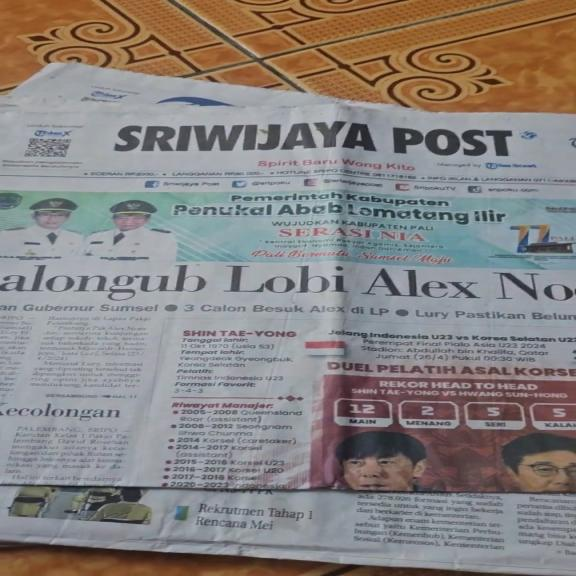Kertas: (3, 58, 569, 574)
